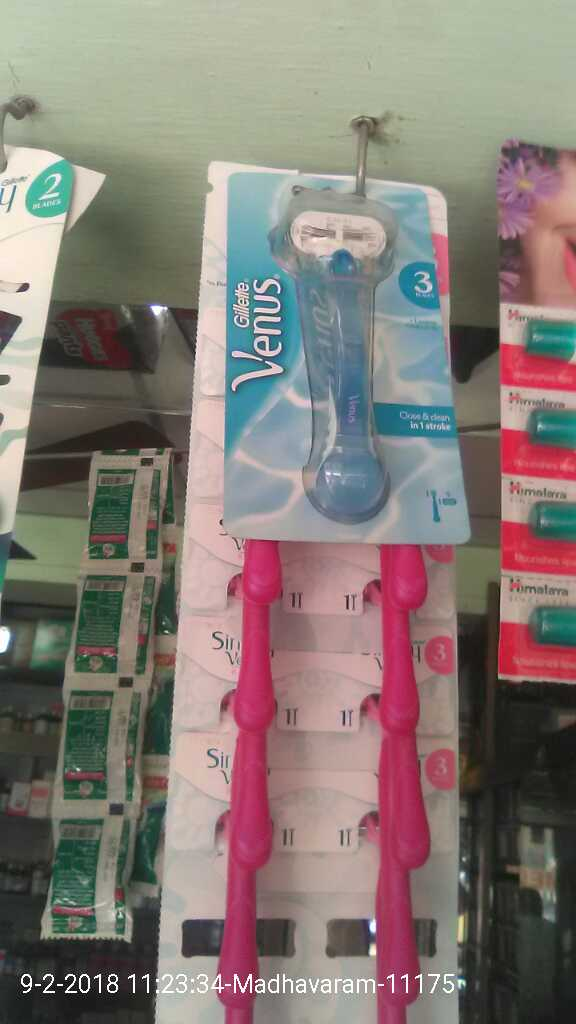venus: (229, 169, 470, 550)
